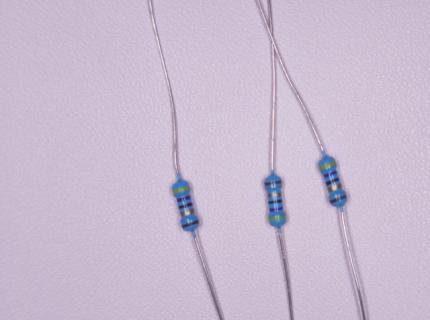Black band: (326, 177, 340, 185), (179, 202, 193, 209), (268, 199, 283, 205)
Brown band: (329, 193, 348, 205), (182, 219, 199, 230), (264, 180, 282, 186)
Gold band: (179, 208, 194, 217), (328, 184, 342, 193), (268, 192, 281, 197)
Violet band: (177, 195, 191, 203), (323, 171, 337, 179), (269, 206, 283, 211)
Yellow band: (172, 185, 190, 194), (319, 162, 336, 170), (269, 215, 286, 220)
